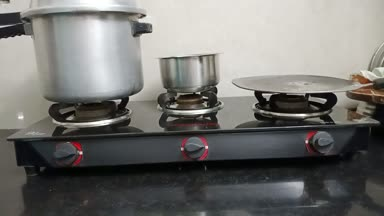flame_gas_off: (255, 91, 353, 157), (44, 98, 129, 174), (164, 90, 222, 163)
